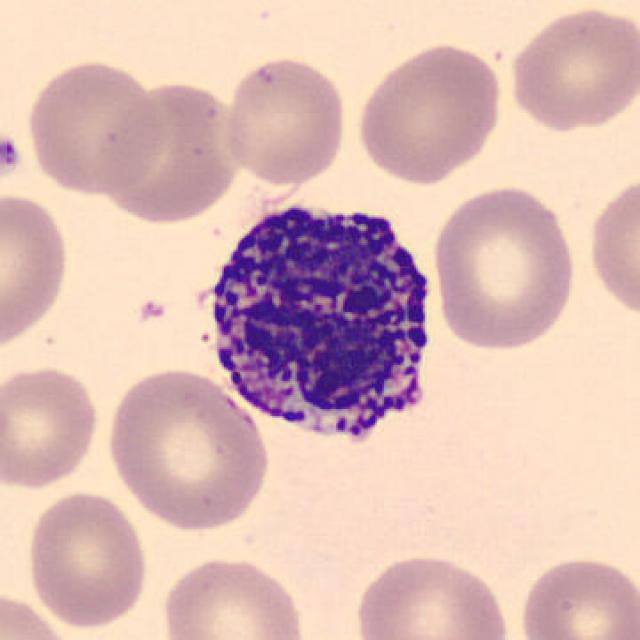Basophil: (186, 184, 450, 466)
Platelets: (0, 129, 25, 183)
RBC: (101, 363, 274, 534), (428, 180, 582, 354), (91, 76, 249, 224), (352, 39, 507, 185), (21, 56, 167, 198), (21, 487, 153, 631), (220, 53, 350, 187), (505, 4, 638, 134), (350, 550, 514, 640), (157, 552, 311, 640), (0, 361, 103, 492), (0, 187, 73, 358), (514, 550, 638, 640), (583, 171, 638, 324), (0, 587, 78, 640)
